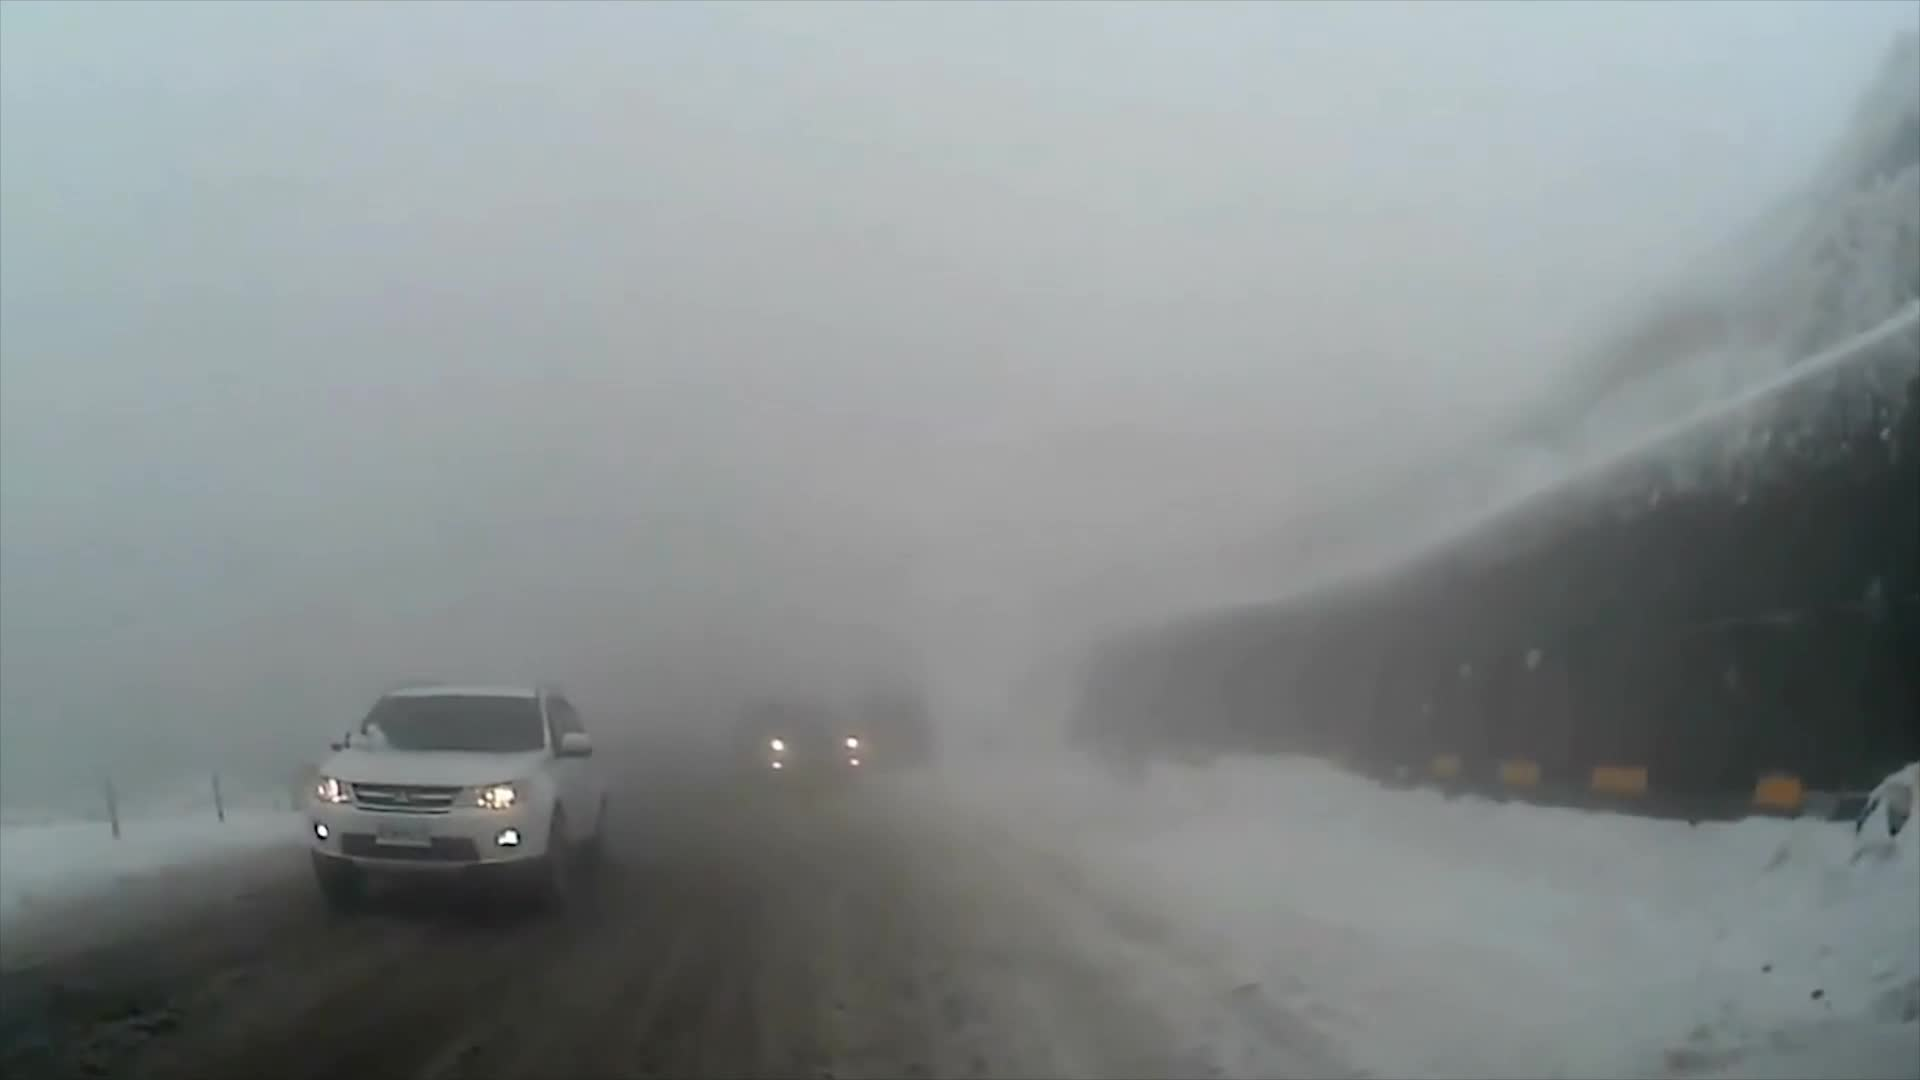vehicle: (299, 673, 609, 919), (720, 702, 864, 803)
